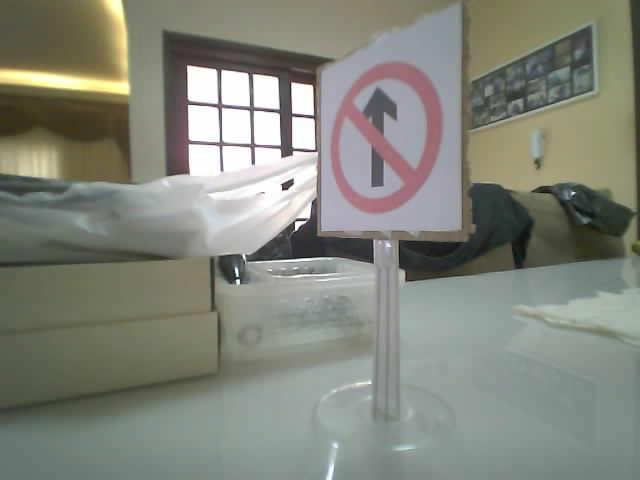R-3_sentido-proibido: (330, 61, 443, 213)
